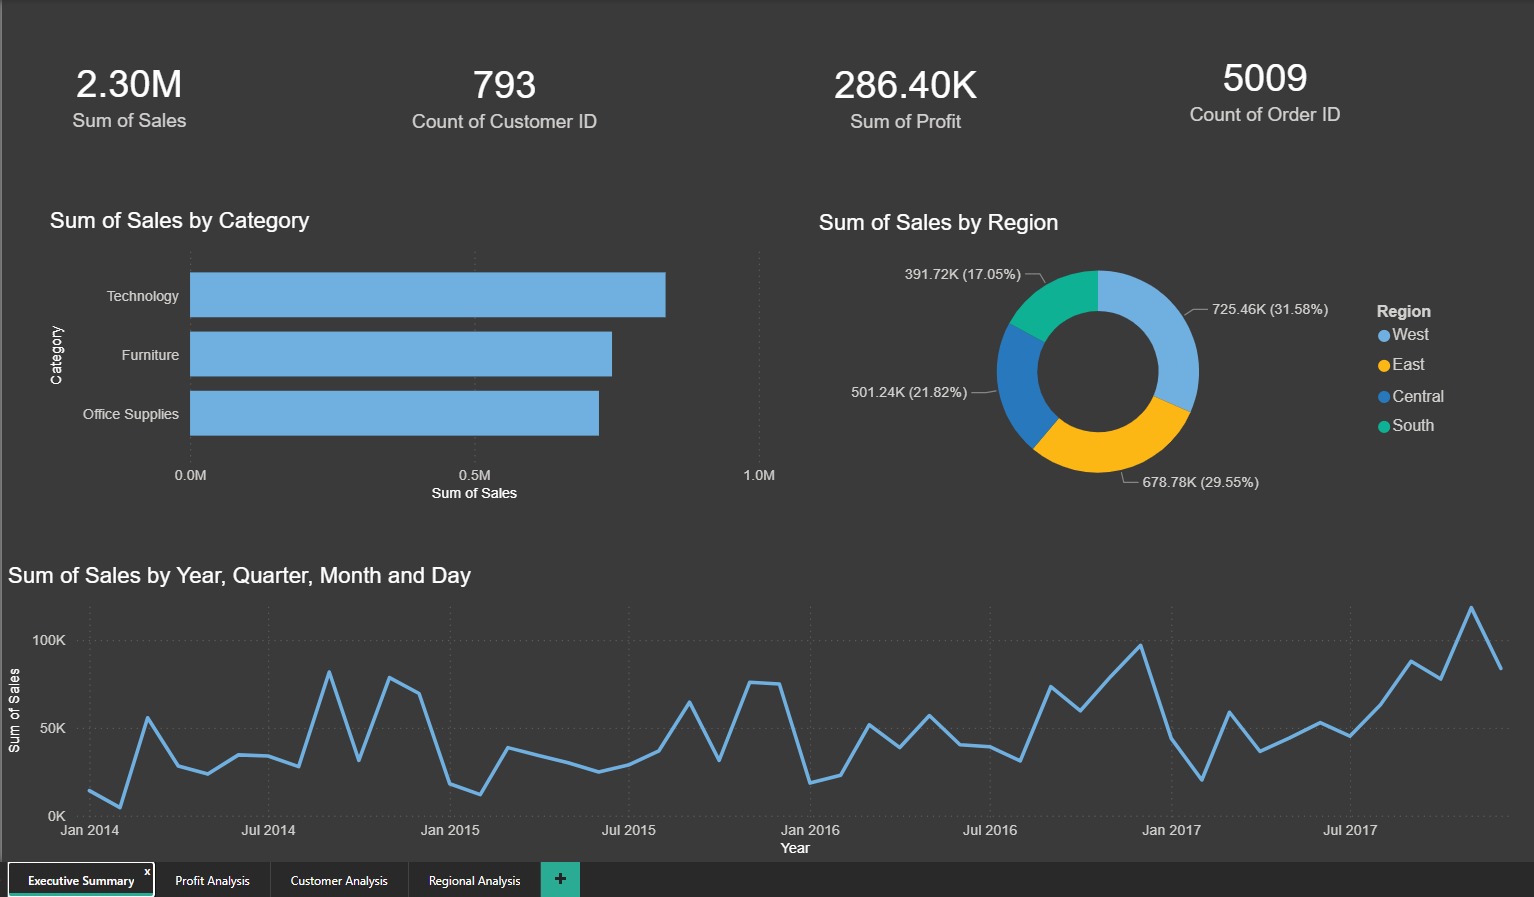

Layout of this report page (visuals, bound fields, positions):
{"tool":"powerbi","page":{"name":"Executive Summary","canvas":[1280,720],"ordinal":0},"visuals":[{"type":"card","fields":{"Values":["Sum(superstore_clean.Sales)"]},"box":[0,0,213,155.6],"z":0},{"type":"card","fields":{"Values":["Sum(superstore_clean.Profit)"]},"box":[632,0,245,156],"z":1000},{"type":"card","fields":{"Values":["Count(superstore_clean.Order ID)"]},"box":[940,0,231,145],"z":2000},{"type":"card","fields":{"Values":["Count(superstore_clean.Customer ID)"]},"box":[315,0,210,156],"z":3000},{"type":"clusteredBarChart","fields":{"Category":["superstore_clean.Category"],"Y":["Sum(superstore_clean.Sales)"]},"box":[35,174,616,250],"z":4000},{"type":"lineChart","fields":{"Y":["Sum(superstore_clean.Sales)"],"Category":["superstore_clean.Year-Month.Variation.Date Hierarchy.Year","superstore_clean.Year-Month.Variation.Date Hierarchy.Quarter","superstore_clean.Year-Month.Variation.Date Hierarchy.Month","superstore_clean.Year-Month.Variation.Date Hierarchy.Day"]},"box":[0,470,1280,250],"z":5000},{"type":"donutChart","fields":{"Category":["superstore_clean.Region"],"Y":["Sum(superstore_clean.Sales)"]},"box":[677,175,542,249],"z":6000}]}

Visuals, with their boxes on the page's 1280x720 design canvas (x1, y1, x2, y2). These are canvas units, not pixel positions in the 1534x897 screenshot, which may show the page scaled, cropped or inside an application window:
card - Sum(superstore_clean.Sales): bbox=[0, 0, 213, 156]
card - Sum(superstore_clean.Profit): bbox=[632, 0, 877, 156]
card - Count(superstore_clean.Order ID): bbox=[940, 0, 1171, 145]
card - Count(superstore_clean.Customer ID): bbox=[315, 0, 525, 156]
clusteredBarChart - superstore_clean.Category x Sum(superstore_clean.Sales): bbox=[35, 174, 651, 424]
lineChart - Sum(superstore_clean.Sales) x superstore_clean.Year-Month.Variation.Date Hierarchy.Year: bbox=[0, 470, 1280, 720]
donutChart - superstore_clean.Region x Sum(superstore_clean.Sales): bbox=[677, 175, 1219, 424]
